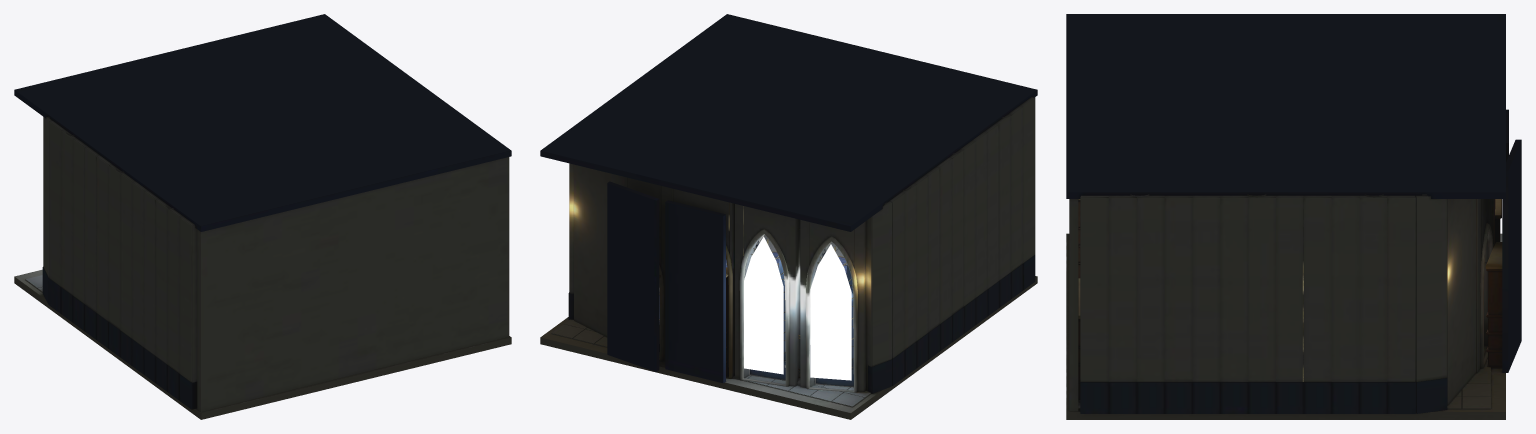
3 views of the same model, side by side, from view 1: azimuth 30°, elevation 25°; view 2: azimuth 150°, elevation 25°; view 3: azimuth 270°, elevation 25° (orthographic). The views are drawn at different scales.
Parts seen in each view (by area): view 1: ravenclaw_architecture, ravenclaw_floor; view 2: ravenclaw_architecture, ravenclaw_glow, ravenclaw_floor; view 3: ravenclaw_architecture, ravenclaw_floor, ravenclaw_furniture, ravenclaw_details.
Boxes of the visible parts, x1,y1,x2,y2 form: ravenclaw_architecture: [14, 14, 511, 411]; ravenclaw_floor: [14, 269, 511, 419]; ravenclaw_architecture: [540, 14, 1037, 393]; ravenclaw_glow: [744, 236, 851, 380]; ravenclaw_floor: [540, 235, 1037, 419]; ravenclaw_architecture: [1066, 14, 1521, 413]; ravenclaw_floor: [1066, 233, 1505, 419]; ravenclaw_furniture: [1485, 199, 1502, 368]; ravenclaw_details: [1078, 199, 1080, 399].
Size of the model in its own units: 14.75 by 8.57 by 15.53.
7 materials, 5 textured.
